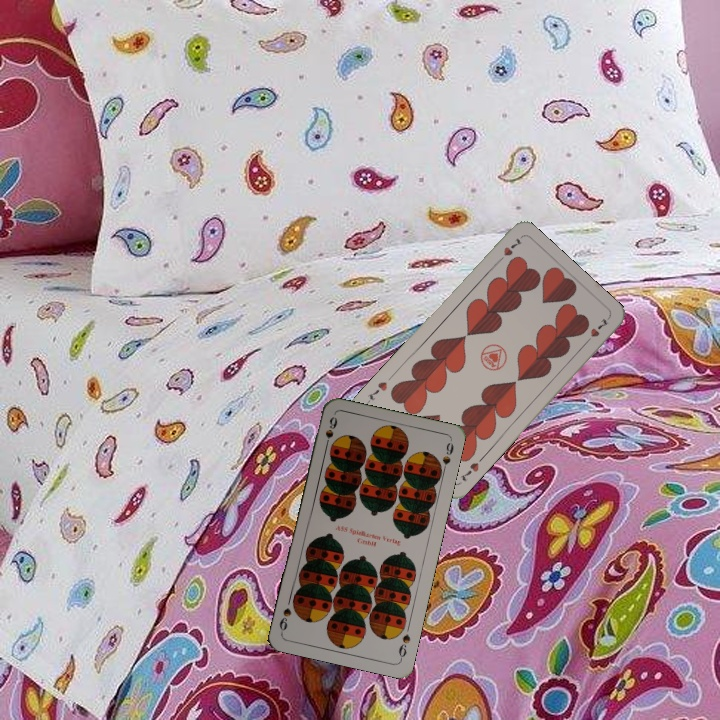H7: (493, 234, 525, 266), (456, 458, 482, 484)
S9: (321, 413, 340, 452), (395, 630, 413, 662)
